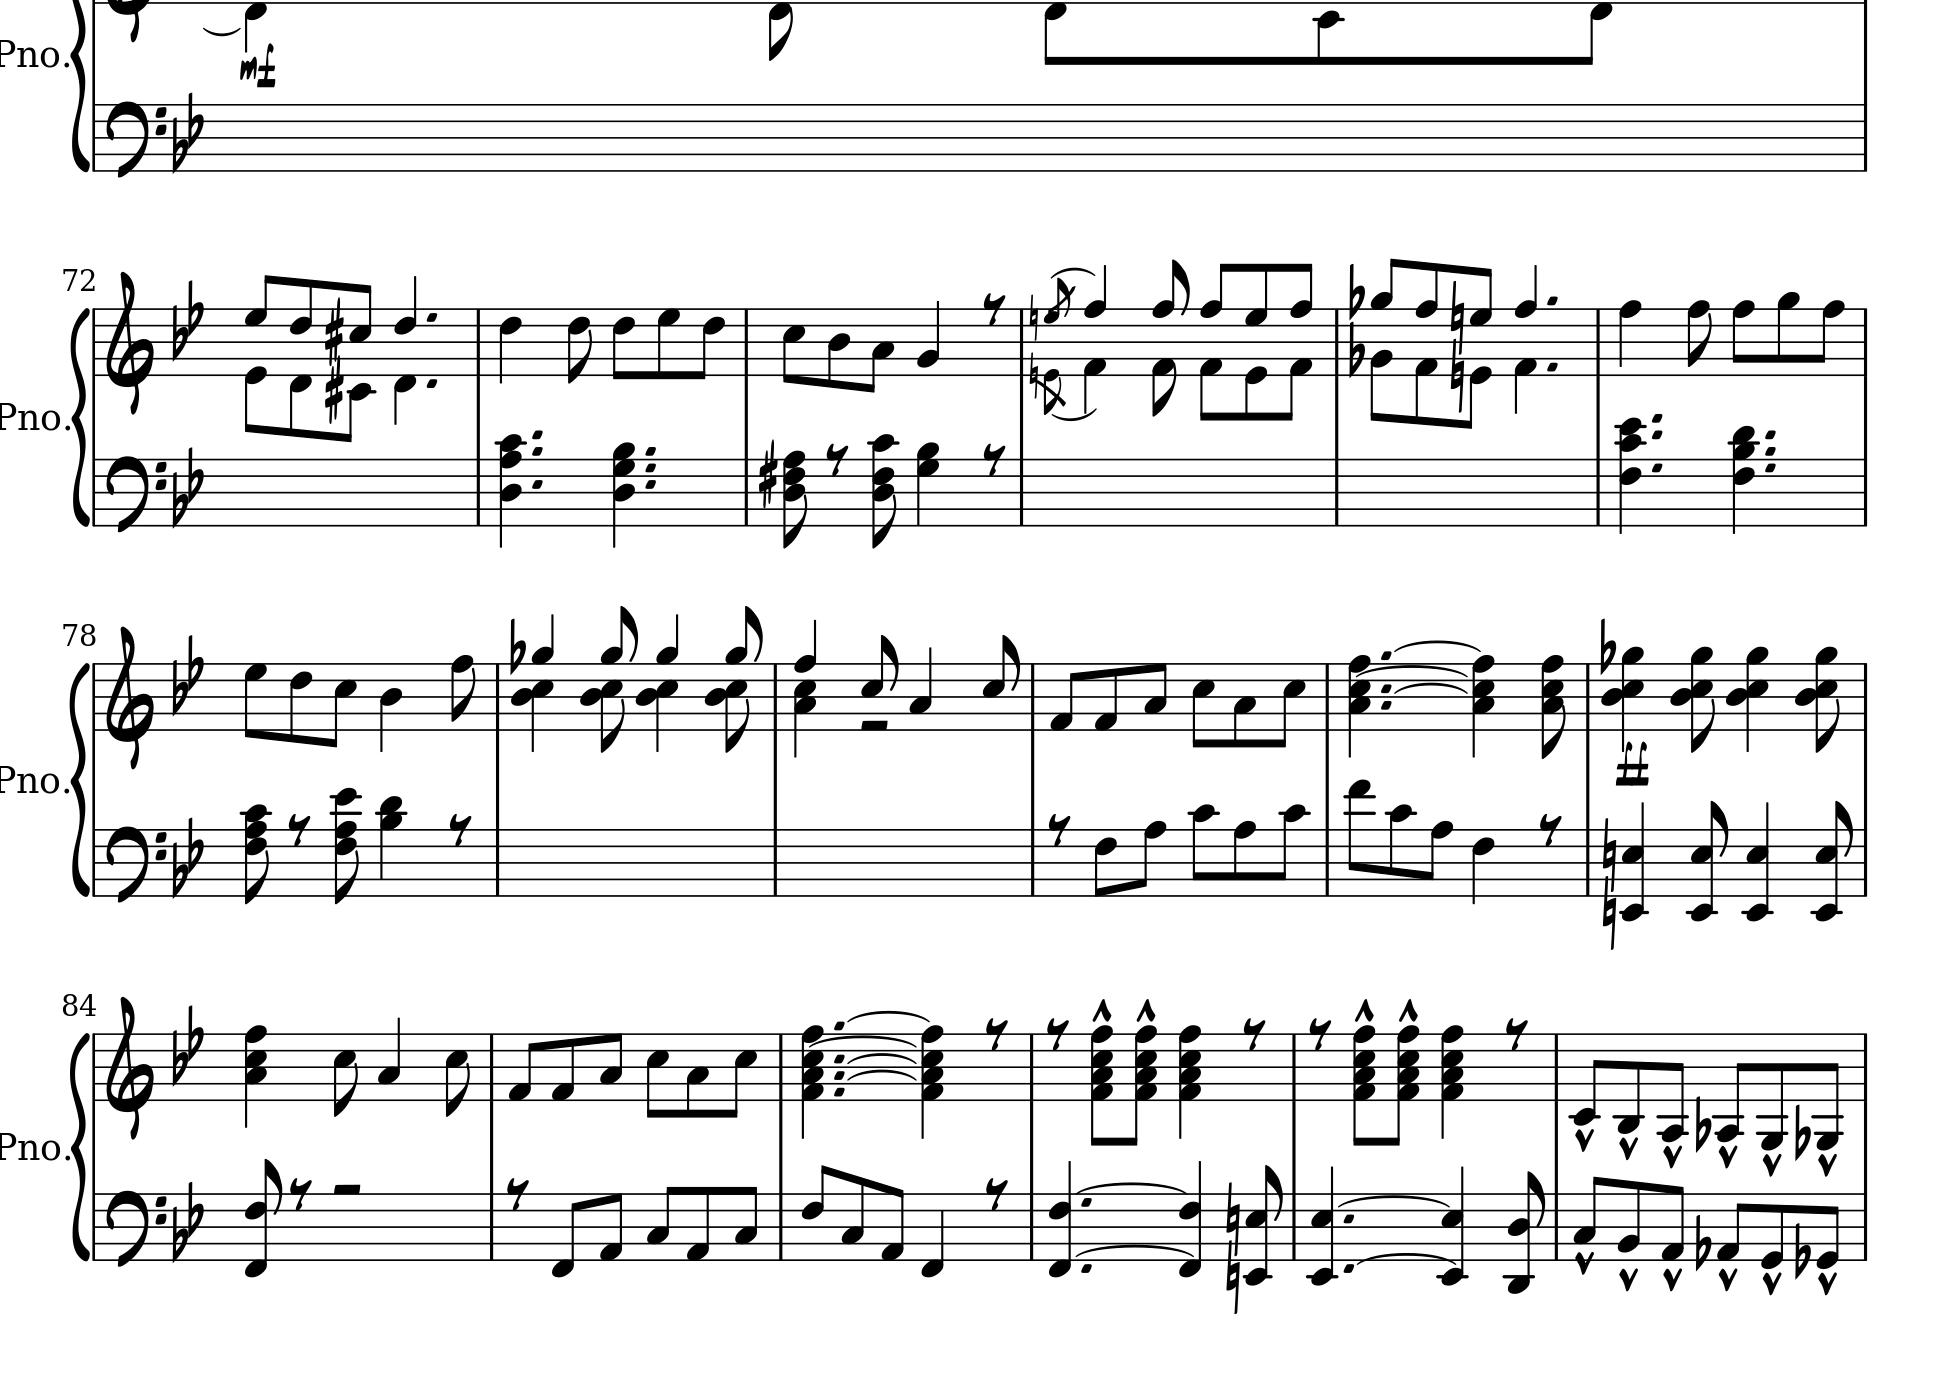2: (76, 265, 96, 292)
4: (79, 990, 97, 1018)
4_-1: (919, 1191, 946, 1279)
4_-1_6: (1047, 1159, 1075, 1279), (1177, 1162, 1204, 1278)
4_-2_5: (1740, 801, 1776, 922), (1305, 1165, 1341, 1287), (1435, 1165, 1470, 1285), (1620, 801, 1653, 922)
4_1_6: (391, 276, 418, 424)
4_1_8: (1512, 264, 1540, 418), (1083, 265, 1110, 415)
4_2: (915, 298, 942, 376)
4_3: (907, 645, 934, 730), (376, 1015, 402, 1101)
4_4: (378, 663, 403, 754)
4_4th: (1438, 1020, 1465, 1141), (799, 1021, 828, 1135), (1176, 1021, 1203, 1140), (919, 1021, 946, 1137)
4_6: (496, 306, 522, 385), (1470, 826, 1495, 906)
4_8: (1617, 298, 1642, 378)
4_th: (1602, 645, 1653, 753), (1729, 642, 1771, 751), (1615, 418, 1645, 537), (1728, 423, 1758, 532), (610, 439, 639, 547), (1347, 652, 1375, 756), (1471, 651, 1497, 759), (243, 1023, 268, 1129)
7: (61, 265, 78, 292), (61, 619, 78, 646)
8: (79, 619, 97, 648), (60, 990, 78, 1017)
8_-1: (549, 1189, 583, 1279)
8_-1_6: (240, 1156, 283, 1276), (283, 274, 313, 435)
8_-2: (1569, 1030, 1605, 1126)
8_-2_5: (1683, 799, 1731, 922), (1812, 799, 1860, 922), (1243, 1164, 1287, 1288), (343, 280, 373, 442)
8_-3: (1614, 1032, 1644, 1135)
8_-3_4: (1503, 1171, 1548, 1296)
8_-4: (1713, 1030, 1747, 1141), (1657, 1029, 1689, 1141)
8_-5: (1758, 1030, 1789, 1150), (1813, 1030, 1845, 1150)
8_0: (1815, 1191, 1842, 1270), (1759, 1191, 1785, 1270)
8_0_7: (1464, 265, 1495, 429), (243, 274, 274, 436), (1243, 262, 1270, 421)
8_1: (505, 1030, 538, 1102), (1716, 1191, 1749, 1261), (1048, 660, 1080, 733), (684, 1183, 711, 1263), (1659, 1183, 1686, 1263), (879, 1183, 904, 1263), (1092, 660, 1119, 733), (549, 1030, 576, 1102), (598, 1189, 624, 1263)
8_10: (1273, 801, 1308, 898), (1191, 802, 1218, 898), (1386, 802, 1413, 898)
8_13: (1342, 778, 1375, 897)
8_1_8: (1150, 259, 1191, 415), (1284, 262, 1317, 421), (1198, 262, 1231, 418), (1413, 259, 1443, 424)
8_2: (1615, 1179, 1641, 1261)
8_2_9: (1369, 258, 1404, 421)
8_3: (862, 306, 895, 394), (1572, 1173, 1605, 1258), (645, 1183, 676, 1261), (838, 1171, 865, 1261), (1231, 661, 1257, 750), (684, 1030, 709, 1119), (732, 1183, 757, 1261), (1143, 661, 1168, 732), (598, 1030, 622, 1102)
8_4: (826, 306, 850, 391)
8_4th: (1126, 1023, 1161, 1143), (1389, 1024, 1422, 1144), (1350, 1023, 1377, 1144), (1089, 1024, 1116, 1144)
8_5: (982, 633, 1018, 733), (861, 634, 897, 733), (724, 1030, 757, 1119), (325, 661, 357, 748), (1273, 661, 1305, 748), (643, 1030, 670, 1120), (331, 1030, 358, 1119), (442, 1030, 469, 1117), (1191, 660, 1215, 750), (781, 306, 805, 385)
8_6: (799, 1162, 832, 1263), (694, 306, 726, 379), (565, 304, 594, 384), (288, 661, 313, 745), (1092, 826, 1119, 898), (610, 306, 636, 381)
8_7: (243, 661, 268, 741), (655, 304, 681, 379)
8_8: (1813, 298, 1846, 378), (1134, 819, 1165, 898), (1422, 819, 1453, 898), (448, 652, 477, 733), (1686, 298, 1713, 378), (1731, 298, 1756, 378), (1233, 819, 1257, 898)
8_9: (1776, 289, 1801, 378)
8_th: (1794, 643, 1845, 753), (1668, 642, 1716, 751), (328, 784, 364, 906), (867, 432, 900, 549), (238, 802, 274, 904), (1540, 654, 1567, 759), (781, 448, 808, 549)
B_F: (169, 277, 205, 361), (169, 442, 204, 528), (169, 631, 204, 715), (171, 1003, 205, 1086), (171, 814, 204, 900), (171, 90, 204, 172), (169, 1179, 202, 1261)
Brace: (70, 658, 91, 895), (70, 303, 91, 526), (70, 1030, 90, 1261)
Fclef: (103, 97, 166, 180), (103, 1188, 166, 1270), (103, 454, 166, 535), (103, 823, 166, 904)
Flat: (1597, 615, 1618, 673), (1347, 261, 1366, 319), (508, 615, 526, 675), (1693, 1210, 1711, 1270), (1792, 1219, 1810, 1279), (1693, 1095, 1711, 1153), (1348, 321, 1365, 379), (1794, 1102, 1810, 1159)
Gclef: (103, 993, 154, 1141), (103, 622, 154, 769), (103, 270, 154, 414)
Marcato_above: (1617, 1135, 1641, 1162), (1816, 1150, 1839, 1179), (1134, 996, 1158, 1021), (1396, 996, 1420, 1021), (1662, 1143, 1686, 1168), (1716, 1144, 1740, 1170), (1761, 1152, 1785, 1177), (1761, 1270, 1785, 1294), (1090, 996, 1113, 1021), (1353, 996, 1375, 1021), (1662, 1266, 1684, 1290), (1716, 1267, 1740, 1290), (1815, 1270, 1839, 1293), (1575, 1126, 1596, 1152), (1575, 1249, 1594, 1275), (1617, 1267, 1639, 1288)
Natural: (1224, 1237, 1242, 1314), (1224, 1179, 1242, 1249), (1600, 874, 1617, 949), (1449, 280, 1467, 348), (1449, 339, 1465, 411), (1602, 814, 1618, 883), (1029, 292, 1041, 342), (1029, 349, 1041, 397)
Pno: (1, 1128, 60, 1164), (1, 36, 58, 72), (1, 760, 58, 796), (1, 399, 60, 433)
Rests2: (856, 715, 892, 735), (328, 1180, 363, 1198)
Rests8: (984, 1015, 1011, 1051), (981, 291, 1008, 325), (286, 811, 312, 847), (1242, 1015, 1267, 1051), (1504, 1015, 1530, 1051), (825, 441, 850, 475), (981, 441, 1006, 475), (447, 811, 472, 846), (1047, 811, 1072, 846), (288, 1176, 313, 1210), (984, 1176, 1009, 1210), (1045, 1015, 1071, 1050), (1539, 811, 1563, 846), (505, 1176, 529, 1210), (1308, 1015, 1332, 1050)
Sharp: (756, 438, 778, 511), (322, 300, 343, 364), (322, 358, 343, 420)
Single_barline: (469, 457, 487, 523), (469, 309, 487, 373), (1590, 309, 1608, 373), (1857, 457, 1873, 526), (1024, 661, 1041, 730), (1857, 307, 1873, 375), (1590, 457, 1606, 525), (489, 663, 505, 730), (768, 663, 784, 730), (766, 828, 783, 895), (1024, 828, 1041, 895), (738, 309, 754, 375), (738, 457, 754, 523), (489, 828, 505, 894), (1857, 1033, 1873, 1099), (483, 1192, 499, 1258), (1857, 105, 1873, 169), (1858, 661, 1873, 730), (1320, 661, 1335, 730), (1014, 457, 1029, 525), (1581, 663, 1596, 730), (1320, 828, 1335, 895), (484, 1032, 499, 1099), (774, 1032, 789, 1099), (1857, 1192, 1872, 1260), (1329, 457, 1344, 523), (1581, 828, 1596, 894), (1858, 829, 1873, 895), (1024, 1033, 1039, 1099), (1287, 1033, 1302, 1099), (1548, 1033, 1563, 1099), (772, 1192, 787, 1258), (1287, 1192, 1302, 1258), (1014, 309, 1029, 373), (1024, 1194, 1039, 1258), (88, 105, 102, 169), (1330, 309, 1344, 373), (88, 459, 102, 523), (88, 829, 102, 892), (88, 1194, 102, 1257), (88, 307, 100, 376), (1551, 1191, 1563, 1257)
Slur: (1336, 1192, 1452, 1207), (1077, 1180, 1191, 1195), (1356, 663, 1474, 676), (1077, 1243, 1194, 1257), (807, 1033, 924, 1045), (1354, 1251, 1455, 1264), (1392, 637, 1482, 652), (1392, 681, 1470, 694), (843, 1068, 918, 1081), (847, 1009, 931, 1021), (844, 1051, 918, 1063), (1050, 408, 1098, 423), (1051, 265, 1096, 277), (202, 22, 241, 36)
dot: (1648, 409, 1666, 427), (529, 426, 547, 442), (1648, 426, 1666, 442), (1761, 459, 1779, 474), (1762, 427, 1779, 442), (642, 442, 658, 457), (1762, 445, 1779, 460), (1650, 457, 1665, 474), (642, 459, 658, 474), (642, 475, 658, 490), (528, 444, 546, 457), (1377, 681, 1395, 694), (1545, 358, 1560, 373), (529, 475, 544, 490), (1341, 1210, 1356, 1225), (1341, 1258, 1356, 1273), (423, 309, 439, 322), (1545, 292, 1560, 306), (424, 376, 439, 390), (1378, 697, 1393, 711), (831, 1084, 846, 1098), (1080, 1261, 1093, 1275), (832, 1051, 844, 1066), (1080, 1195, 1093, 1207)
ff: (1618, 736, 1648, 786)
mf: (238, 40, 277, 88)
